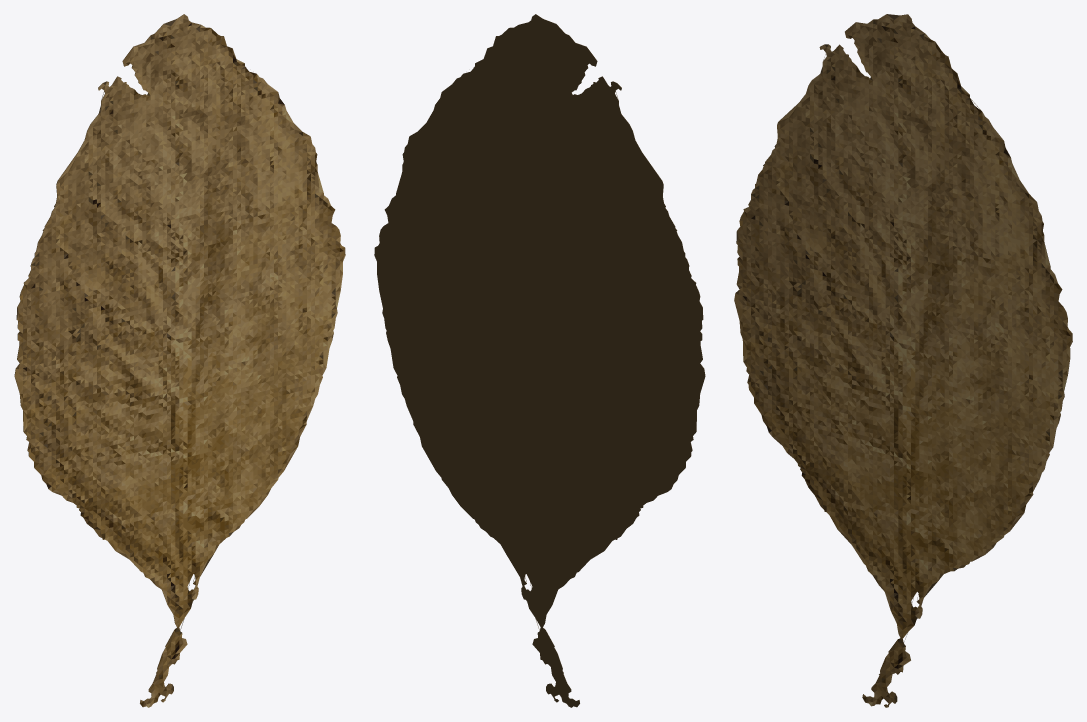
The model's file is 20260828_180211037_iOS.obj.
3 views of the same model, side by side, from view 1: azimuth 30°, elevation 25°; view 2: azimuth 150°, elevation 25°; view 3: azimuth 330°, elevation 25° (orthographic). The views are drawn at different scales.
Visible parts, largest first — view 1: 20260828_180211037_iOS; view 2: 20260828_180211037_iOS; view 3: 20260828_180211037_iOS.
Part boxes in pixels (bbox=[...]): 20260828_180211037_iOS: bbox=[14, 14, 345, 707]; 20260828_180211037_iOS: bbox=[374, 14, 705, 707]; 20260828_180211037_iOS: bbox=[734, 14, 1072, 707].
Size of the model in its own units: 241 by 477 by 0.3.
